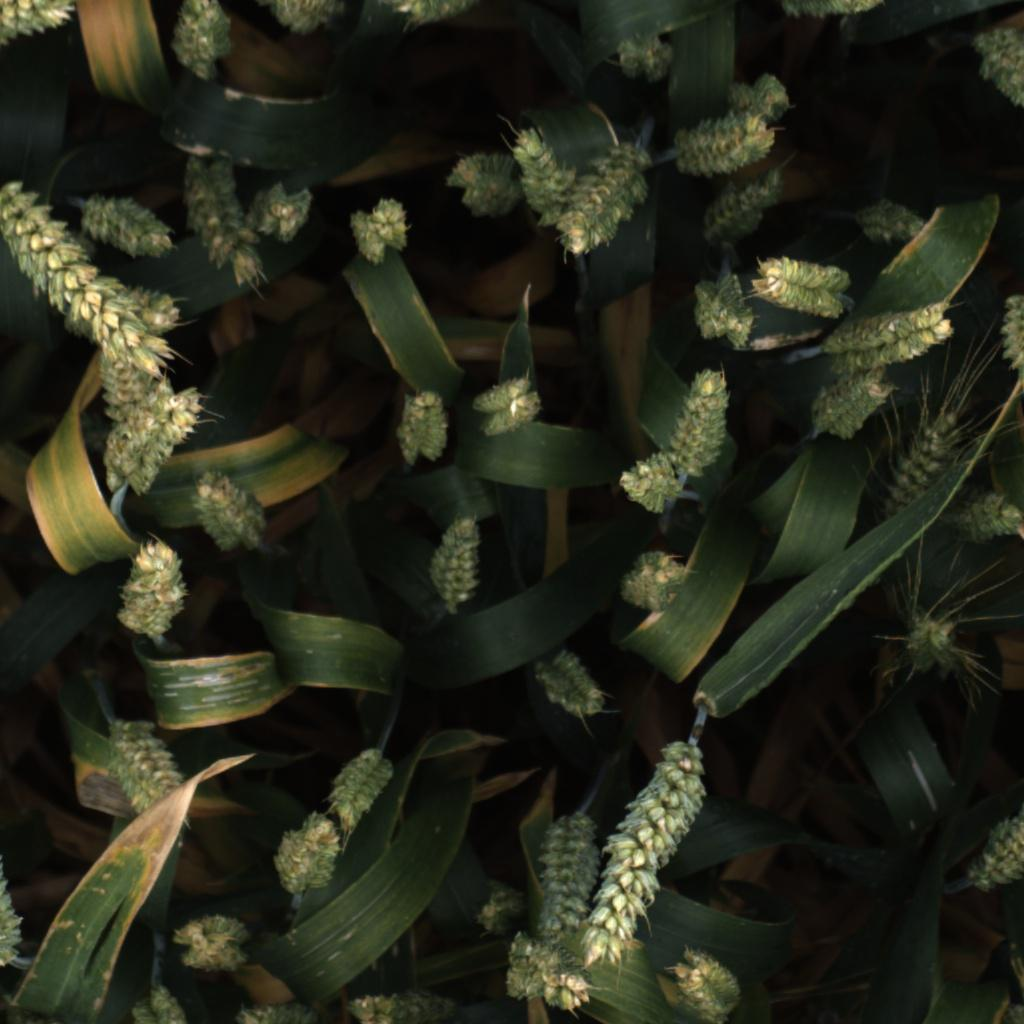0-0: (3, 166, 194, 381), (561, 726, 711, 974), (89, 295, 195, 483), (179, 146, 269, 297), (815, 296, 958, 372), (105, 385, 204, 491), (559, 140, 645, 256), (880, 407, 968, 513), (524, 808, 596, 936), (493, 931, 592, 1019), (508, 120, 586, 230), (187, 461, 274, 557), (116, 533, 191, 643), (669, 362, 736, 484), (670, 107, 777, 183), (101, 714, 180, 811), (425, 507, 489, 619), (752, 252, 854, 320), (384, 380, 457, 474), (267, 808, 339, 902), (806, 369, 888, 451), (670, 943, 753, 1024), (326, 737, 398, 828), (467, 371, 555, 444), (533, 649, 617, 725), (84, 191, 174, 261), (245, 171, 326, 246), (342, 191, 418, 269), (173, 0, 243, 84), (967, 790, 1024, 893), (895, 604, 969, 683), (703, 173, 788, 241), (619, 544, 695, 620), (440, 146, 518, 220), (967, 23, 1024, 120), (685, 268, 753, 348), (614, 444, 684, 518), (176, 906, 252, 972), (0, 0, 82, 60), (951, 479, 1024, 545), (346, 982, 460, 1024), (724, 68, 800, 127), (0, 852, 35, 975), (856, 191, 929, 248), (611, 24, 681, 83), (248, 0, 345, 41), (126, 983, 217, 1024), (468, 882, 525, 940), (387, 1, 483, 29), (233, 996, 329, 1023), (1002, 286, 1024, 383), (777, 1, 886, 20)
